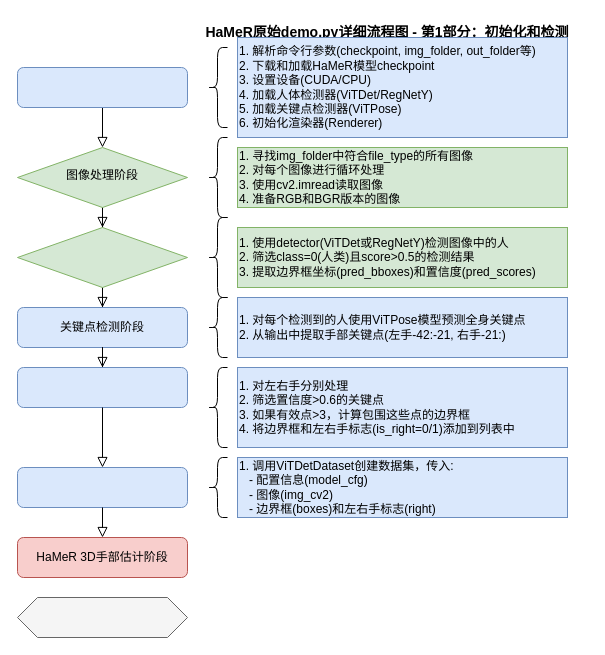
Some shapes in this 605 by 655 pixel diagram are drawn without their labels. The shapes that lost their labels are listed below. From the top down, each one's centre as x and y in pixels, then its label:
At point (102, 87): "初始化阶段".
At point (102, 257): "人体检测阶段".
At point (102, 387): "手部边界框提取".
At point (102, 487): "数据准备阶段".
At point (102, 617): "续下一图".
